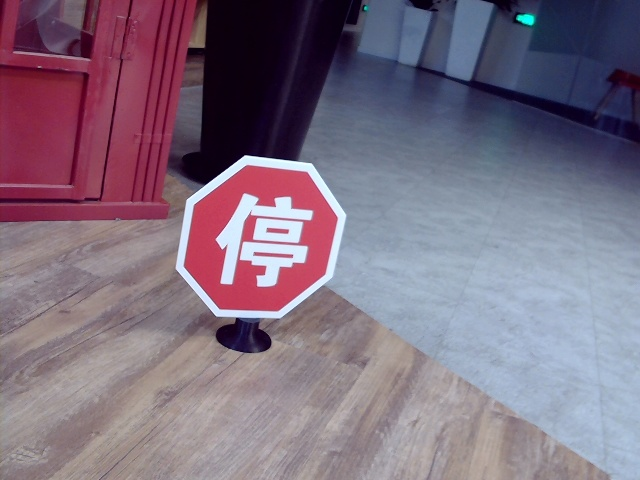stop: (215, 190, 308, 289)
